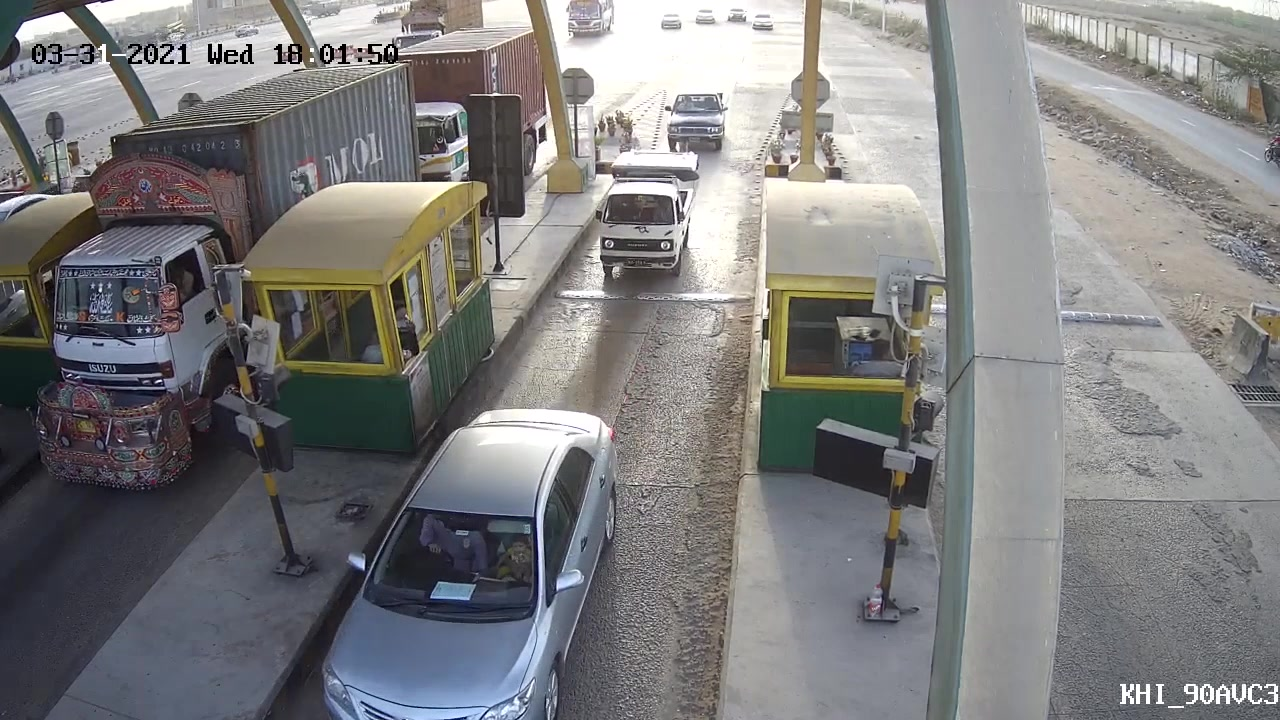F1: (576, 143, 704, 277)
